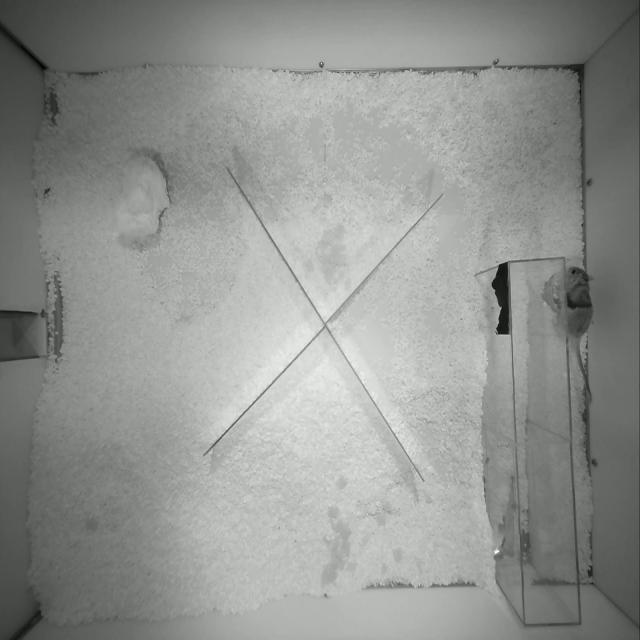adult_front: (566, 267, 593, 402)
